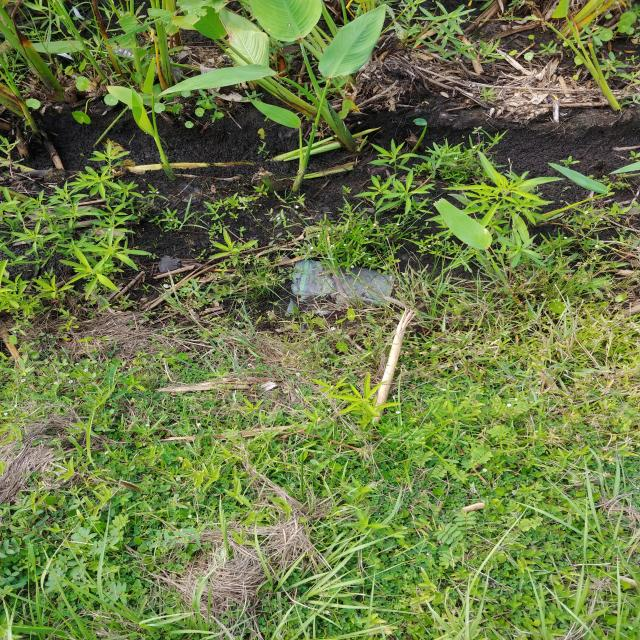litter: (287, 260, 396, 326), (113, 47, 183, 81)
